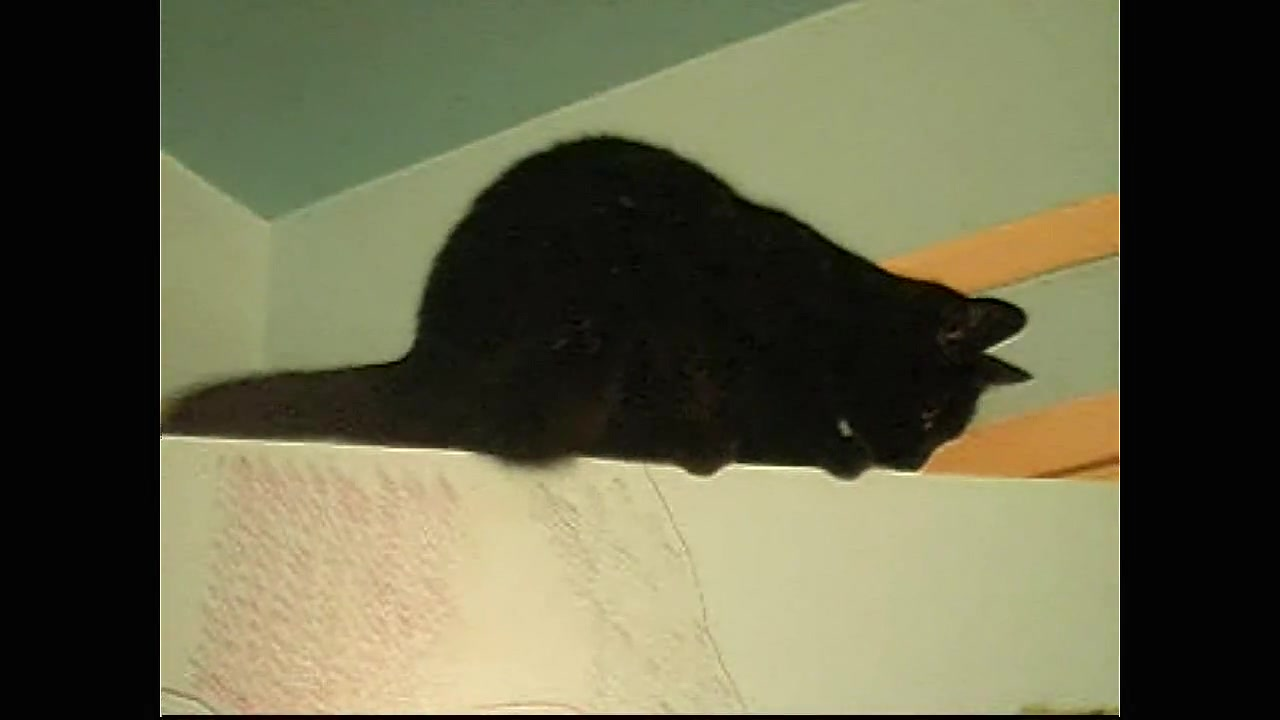cat: (165, 135, 1039, 484)
